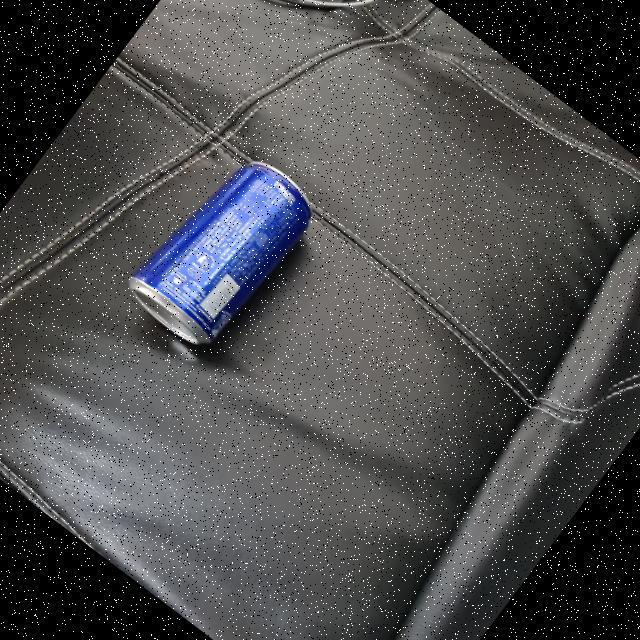can: (108, 130, 331, 368)
